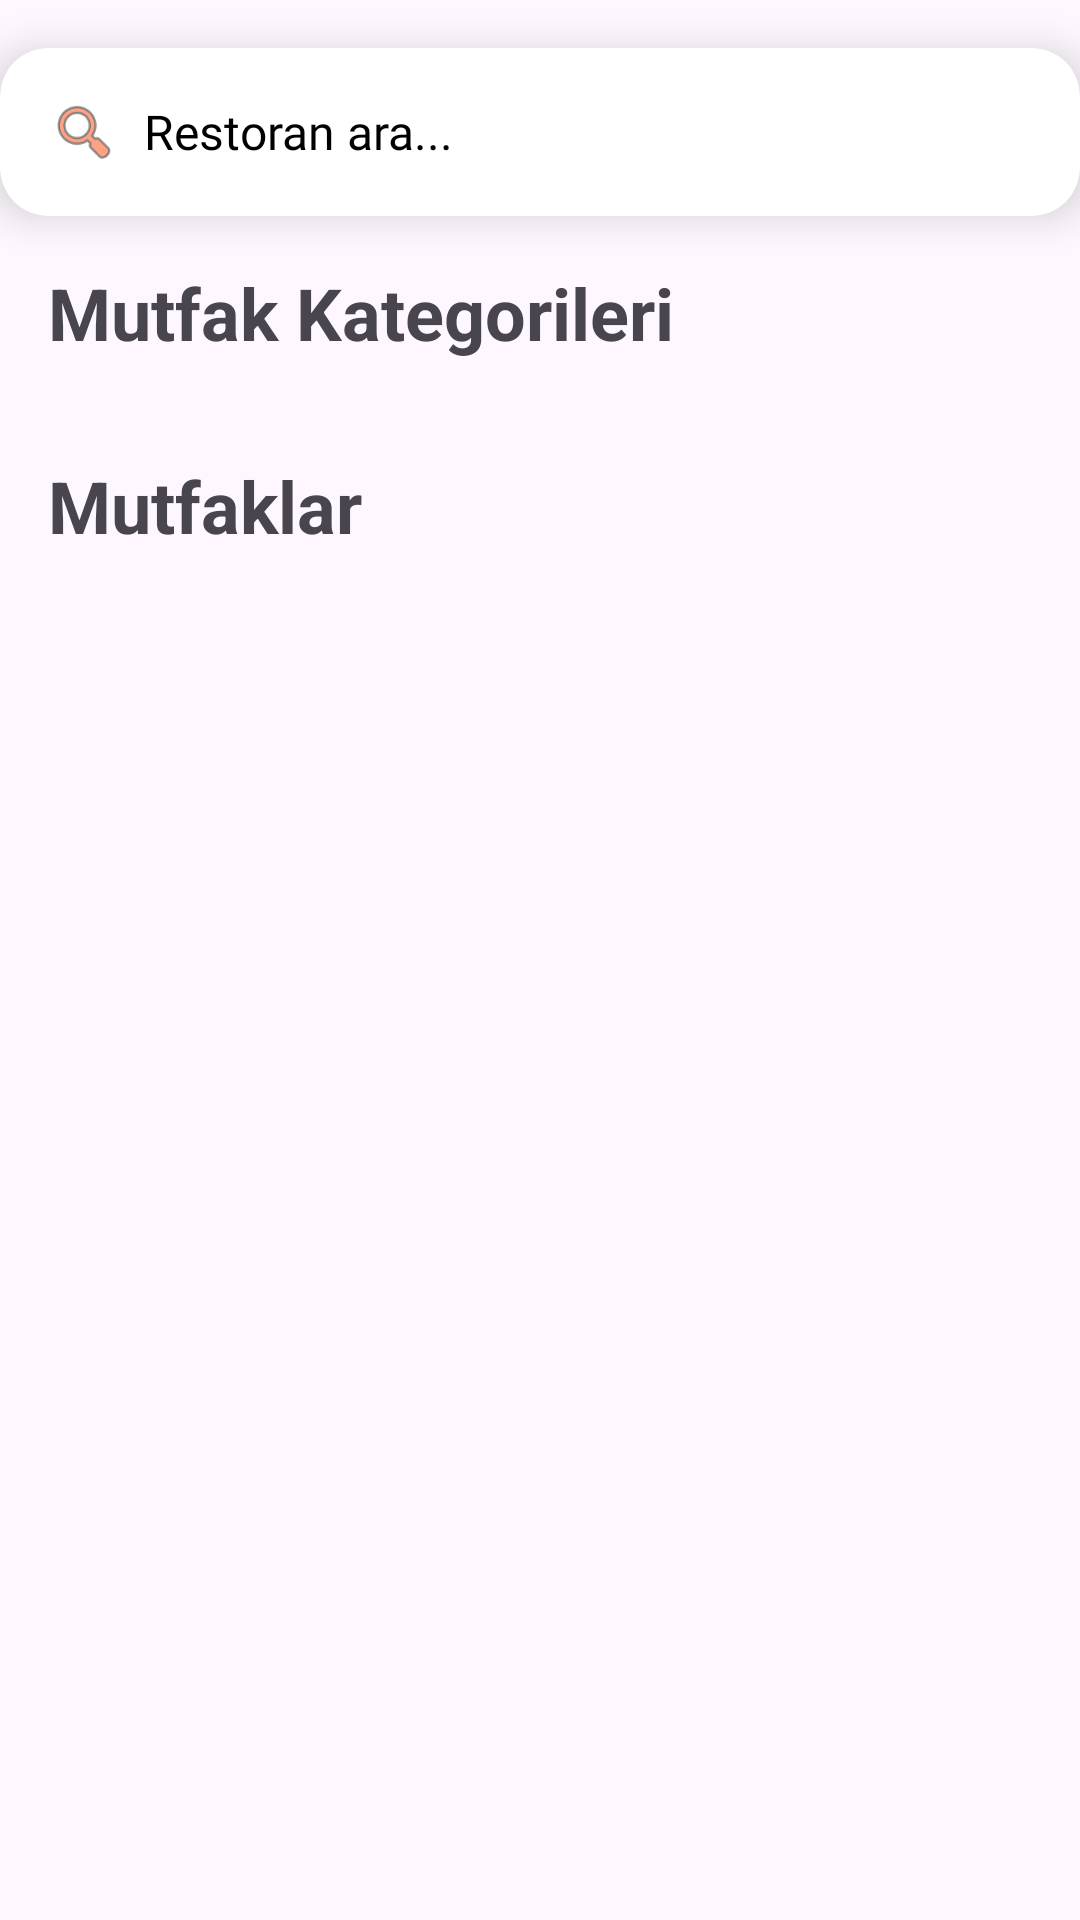

Where to tap for icons on this 1080x1920 app screen, as [x,y]:
search: [84,132]
